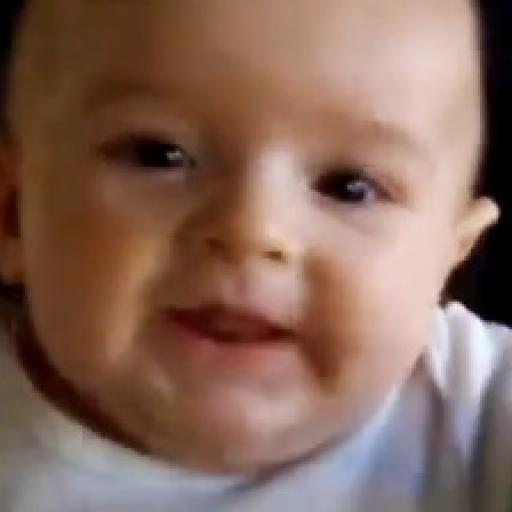Autism: (25, 5, 484, 454)
